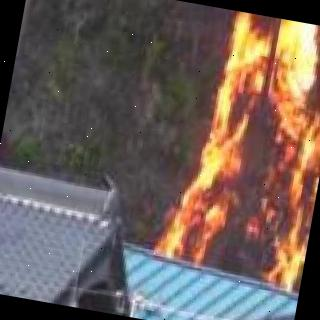fire: (156, 4, 320, 281)
